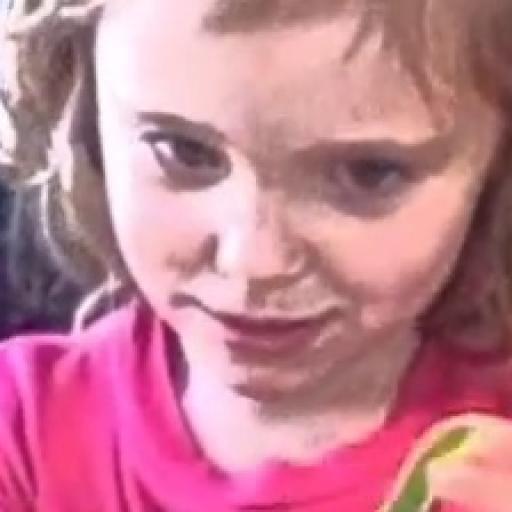Autism: (76, 0, 499, 429)
